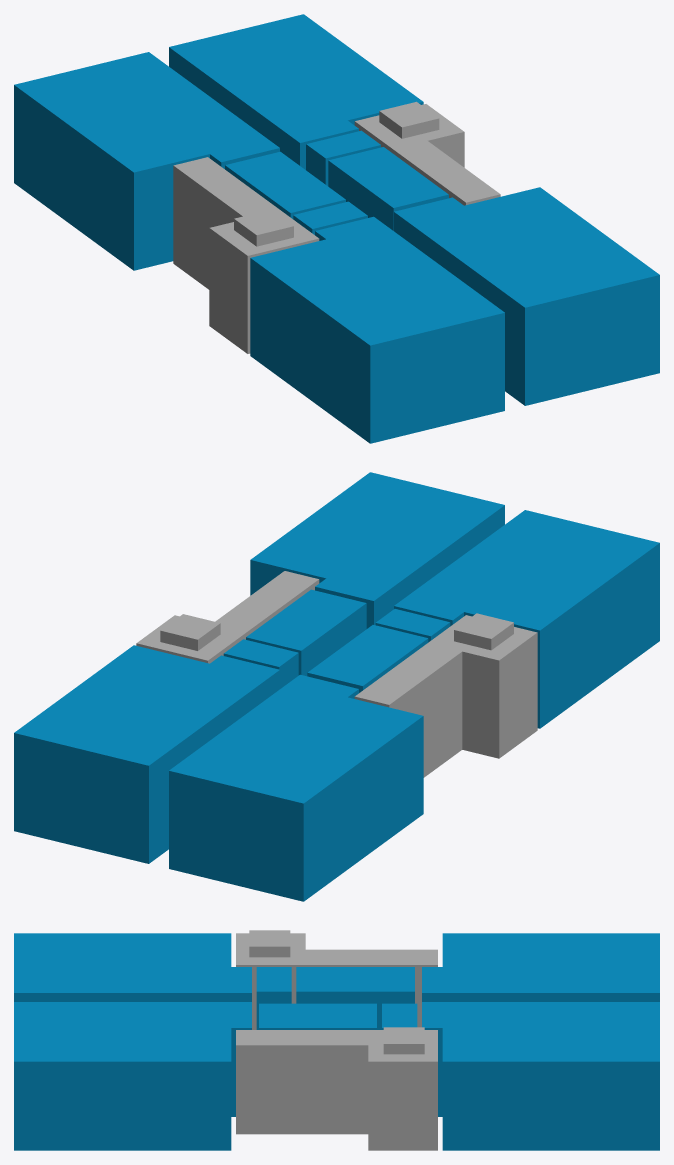
The model's file is Duplex_Level_2_IfcSpace.dae.
The picture shows the model from 3 angles, top to bottom: view 1: azimuth 30°, elevation 25°; view 2: azimuth 150°, elevation 25°; view 3: azimuth 270°, elevation 25°; orthographic projection. The views are drawn at different scales.
Parts seen in each view (by area): view 1: 0BTBFw6f90Nfh9rP1dl_3A, 0BTBFw6f90Nfh9rP1dlXrb, 0BTBFw6f90Nfh9rP1dl_39, 0BTBFw6f90Nfh9rP1dlXrc, 0BTBFw6f90Nfh9rP1dl_3G, 0BTBFw6f90Nfh9rP1dlXri, 0BTBFw6f90Nfh9rP1dlXre, 0BTBFw6f90Nfh9rP1dl_3C, 2gRXFgjRn2HPE$YoDLX3FV, 2gRXFgjRn2HPE$YoDLX3FC; view 2: 0BTBFw6f90Nfh9rP1dl_39, 0BTBFw6f90Nfh9rP1dlXrc, 0BTBFw6f90Nfh9rP1dl_3A, 0BTBFw6f90Nfh9rP1dlXrb, 0BTBFw6f90Nfh9rP1dl_3G, 0BTBFw6f90Nfh9rP1dlXri, 0BTBFw6f90Nfh9rP1dlXre, 0BTBFw6f90Nfh9rP1dl_3C, 2gRXFgjRn2HPE$YoDLX3FV, 2gRXFgjRn2HPE$YoDLX3FC; view 3: 0BTBFw6f90Nfh9rP1dlXrb, 0BTBFw6f90Nfh9rP1dlXrc, 0BTBFw6f90Nfh9rP1dlXri, 0BTBFw6f90Nfh9rP1dl_3A, 0BTBFw6f90Nfh9rP1dl_39, 0BTBFw6f90Nfh9rP1dl_3G, 0BTBFw6f90Nfh9rP1dl_3C, 0BTBFw6f90Nfh9rP1dlXre, 2gRXFgjRn2HPE$YoDLX3FC, 2gRXFgjRn2HPE$YoDLX3FV.
Part boxes in pixels (x1,y1,x2,y2): 0BTBFw6f90Nfh9rP1dl_3A: (250, 216, 504, 443); 0BTBFw6f90Nfh9rP1dlXrb: (394, 187, 659, 405); 0BTBFw6f90Nfh9rP1dl_39: (14, 52, 279, 270); 0BTBFw6f90Nfh9rP1dlXrc: (169, 14, 423, 169); 0BTBFw6f90Nfh9rP1dl_3G: (173, 157, 319, 353); 0BTBFw6f90Nfh9rP1dlXri: (354, 101, 500, 205); 0BTBFw6f90Nfh9rP1dlXre: (328, 147, 448, 230); 0BTBFw6f90Nfh9rP1dl_3C: (225, 151, 345, 218); 2gRXFgjRn2HPE$YoDLX3FV: (306, 130, 380, 186); 2gRXFgjRn2HPE$YoDLX3FC: (293, 201, 367, 234); 0BTBFw6f90Nfh9rP1dl_39: (169, 674, 423, 901); 0BTBFw6f90Nfh9rP1dlXrc: (14, 645, 279, 863); 0BTBFw6f90Nfh9rP1dl_3A: (394, 510, 659, 728); 0BTBFw6f90Nfh9rP1dlXrb: (250, 472, 504, 628); 0BTBFw6f90Nfh9rP1dl_3G: (354, 613, 537, 777); 0BTBFw6f90Nfh9rP1dlXri: (136, 571, 319, 663); 0BTBFw6f90Nfh9rP1dlXre: (246, 589, 366, 676); 0BTBFw6f90Nfh9rP1dl_3C: (307, 625, 428, 692); 2gRXFgjRn2HPE$YoDLX3FV: (223, 639, 298, 688); 2gRXFgjRn2HPE$YoDLX3FC: (375, 609, 450, 642); 0BTBFw6f90Nfh9rP1dlXrb: (14, 1002, 251, 1150); 0BTBFw6f90Nfh9rP1dlXrc: (422, 1002, 659, 1150); 0BTBFw6f90Nfh9rP1dlXri: (236, 1027, 437, 1150); 0BTBFw6f90Nfh9rP1dl_3A: (14, 933, 251, 1001); 0BTBFw6f90Nfh9rP1dl_39: (422, 933, 659, 1001); 0BTBFw6f90Nfh9rP1dl_3G: (236, 930, 437, 1029); 0BTBFw6f90Nfh9rP1dl_3C: (296, 967, 414, 1029); 0BTBFw6f90Nfh9rP1dlXre: (259, 1003, 376, 1029); 2gRXFgjRn2HPE$YoDLX3FC: (256, 967, 291, 1029); 2gRXFgjRn2HPE$YoDLX3FV: (382, 1003, 417, 1029).
Size of the model in its own units: 7.97 by 16.97 by 2.89.
